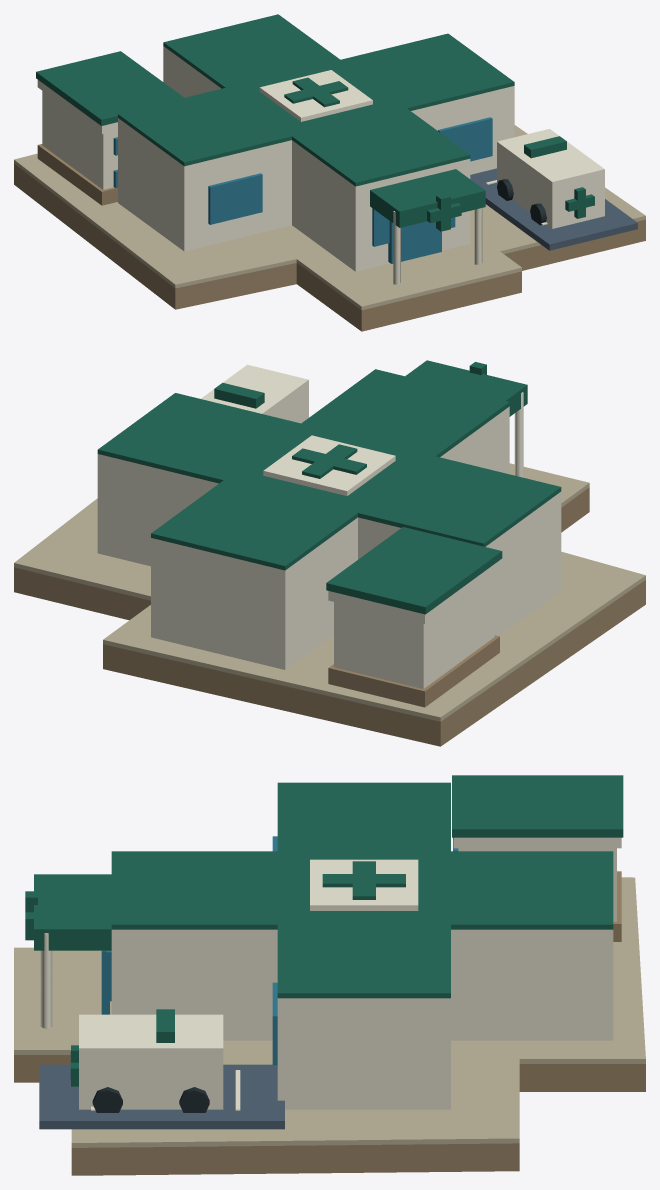
The model's file is medical-center-lv2.glb.
3 views of the same model, one above another, from view 1: azimuth 30°, elevation 25°; view 2: azimuth 150°, elevation 25°; view 3: azimuth 270°, elevation 25° (orthographic). The views are drawn at different scales.
Visible parts, largest first — view 1: cross_clinic_jade, cross_clinic_white, foundation_paving, foundation_stoneDark, ambulance_white, inpatient_wing_roof_jade, inpatient_wing_white, clinic_windows_glass, entry_canopy_jade, ambulance_lane_slate, roof_mark_white, clinic_entry_glass (+7 smaller); view 2: cross_clinic_jade, cross_clinic_white, foundation_paving, foundation_stoneDark, inpatient_wing_white, inpatient_wing_roof_jade, roof_mark_white, inpatient_wing_stoneDark, ambulance_white, entry_canopy_jade, roof_mark_jade, ambulance_jade (+1 smaller); view 3: cross_clinic_jade, cross_clinic_white, foundation_paving, foundation_stoneDark, ambulance_white, inpatient_wing_roof_jade, ambulance_lane_slate, entry_canopy_jade, roof_mark_white, inpatient_wing_white, roof_mark_jade, ambulance_black (+3 smaller).
Boxes of the visible parts, box(x1,y1,x2,y2) form: cross_clinic_jade: box(118, 14, 514, 186); cross_clinic_white: box(118, 46, 514, 271); foundation_paving: box(14, 125, 645, 310); foundation_stoneDark: box(14, 163, 645, 331); ambulance_white: box(497, 129, 604, 228); inpatient_wing_roof_jade: box(36, 51, 184, 125); inpatient_wing_white: box(37, 80, 117, 189); clinic_windows_glass: box(208, 117, 492, 246); entry_canopy_jade: box(370, 169, 485, 227); ambulance_lane_slate: box(470, 168, 637, 250); roof_mark_white: box(259, 70, 372, 121); clinic_entry_glass: box(388, 221, 441, 263); cross_clinic_jade: box(97, 369, 561, 570); cross_clinic_white: box(97, 406, 561, 669); foundation_paving: box(14, 463, 645, 721); foundation_stoneDark: box(14, 487, 645, 746); inpatient_wing_white: box(328, 560, 500, 688); inpatient_wing_roof_jade: box(326, 527, 502, 614); roof_mark_white: box(263, 435, 395, 495); inpatient_wing_stoneDark: box(328, 635, 499, 707); ambulance_white: box(201, 364, 308, 423); entry_canopy_jade: box(405, 360, 527, 416); roof_mark_jade: box(292, 444, 366, 478); ambulance_jade: box(214, 382, 264, 408); cross_clinic_jade: box(111, 782, 613, 998); cross_clinic_white: box(111, 929, 613, 1109); foundation_paving: box(14, 877, 645, 1147); foundation_stoneDark: box(14, 1055, 645, 1175); ambulance_white: box(79, 1014, 223, 1109); inpatient_wing_roof_jade: box(452, 775, 623, 837); ambulance_lane_slate: box(39, 1064, 284, 1129); entry_canopy_jade: box(34, 874, 111, 950); roof_mark_white: box(310, 859, 418, 910); inpatient_wing_white: box(453, 837, 621, 921); roof_mark_jade: box(322, 861, 405, 899); ambulance_black: box(92, 1087, 209, 1112).
Bounding box in the file's own units: 1 × 0.2729 × 0.9887.
